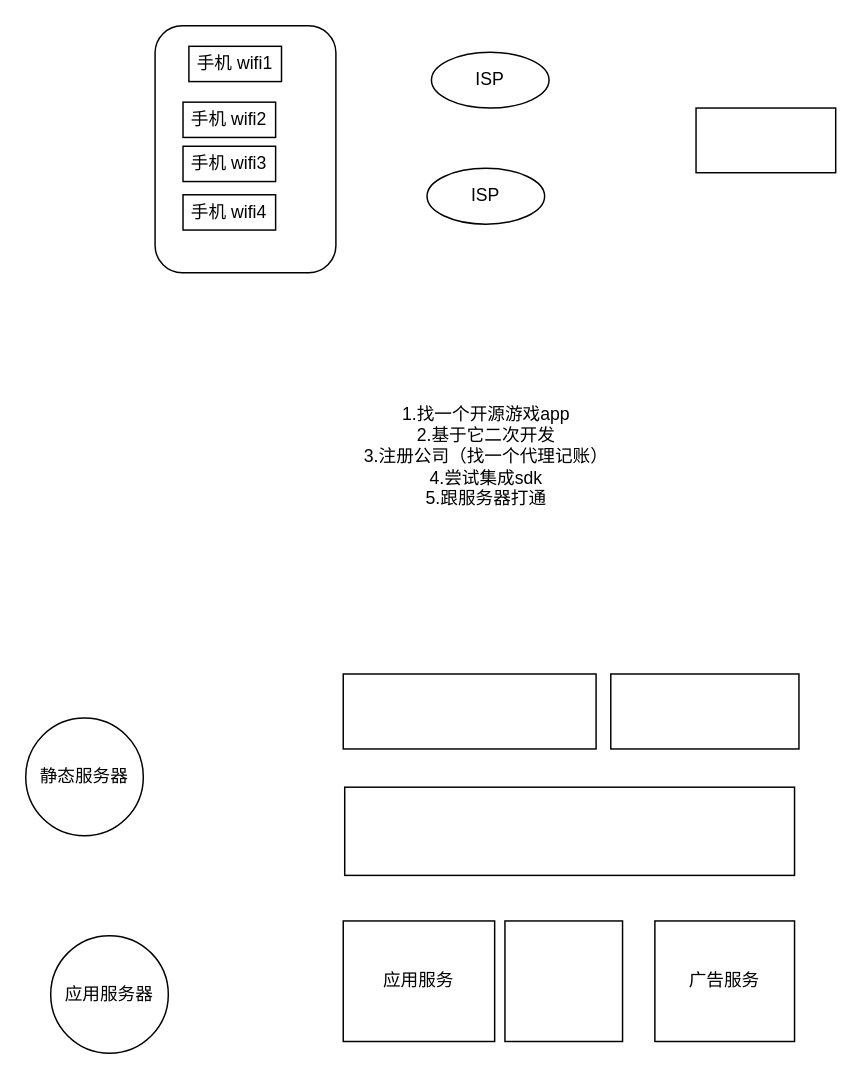
The diagram is 861 pixels wide and 1079 high, and some of its shapes have lost their labels. The box of each missing label's shape, as (x1, y1, x2, y2) in pixels:
交互层UI(APP): (342, 673, 596, 749)
广告sdk: (609, 673, 799, 749)
服务器: (695, 107, 836, 173)
游戏服务: (503, 919, 623, 1041)
网关: (343, 786, 795, 875)
